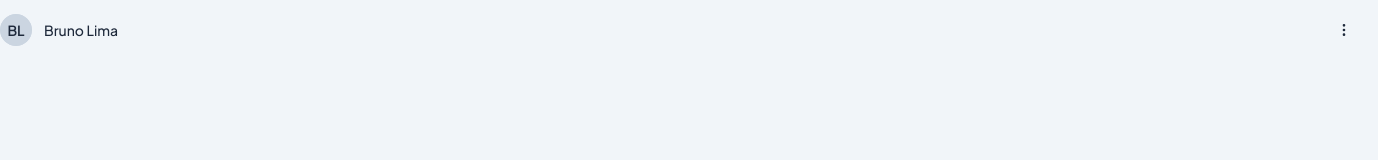
it: ParticipantRow › com o grupo SORTEADO o menu mostra só Transferir organização
Click the button named "Ações para Bruno Lima" at (1344, 30), box top-left (1322, 8), bottom-right (1366, 52)
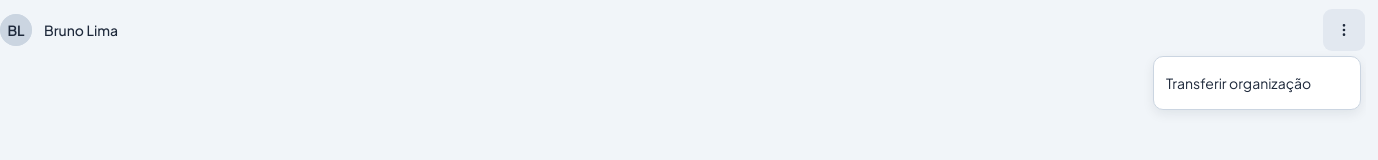
Expected: the menu items read "Transferir organização", in this order, top-left (1166, 74), bottom-right (1311, 92)
